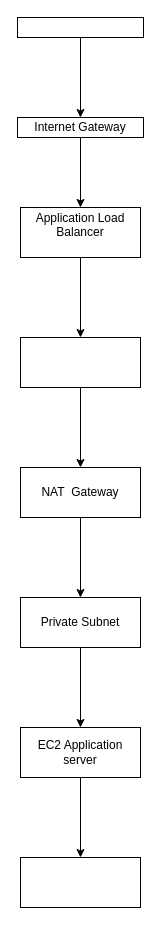
This 161x925 diagram has some shape labels left out. The centre of each missing label's shape, as x and y in pixels:
Database Server: point (80, 882)
Internet: point (80, 27)
Public Subnet: point (80, 362)
